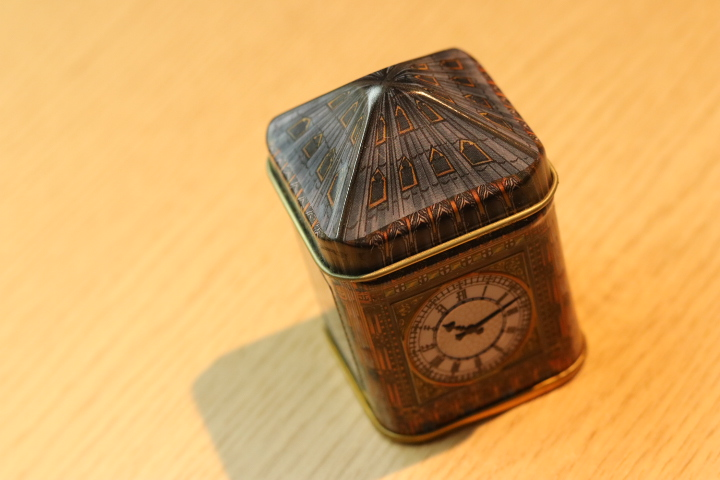Big Ben: (242, 35, 643, 456)
